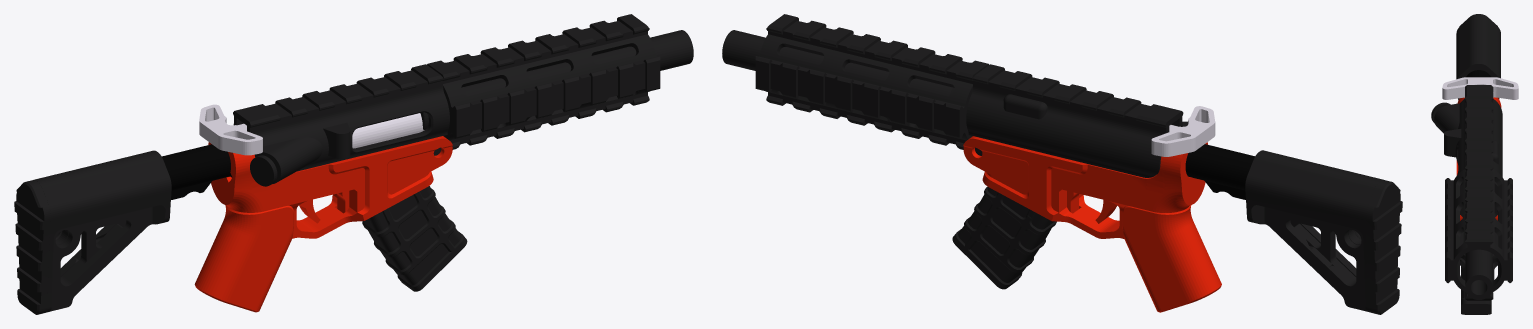
The picture shows the model from 3 angles, left to right: view 1: azimuth 30°, elevation 25°; view 2: azimuth 150°, elevation 25°; view 3: azimuth 270°, elevation 25°; orthographic projection. The views are drawn at different scales.
Visible parts, largest first — view 1: ar.012, ar.005, ar.013, ar.010, ar.001, ar.009, ar.003; view 2: ar.012, ar.005, ar.013, ar.010, ar.001, ar.009; view 3: ar.012, ar.013, ar.009, ar.010, ar.001, ar.005.
Boxes of the visible parts, box(x1,y1,x2,y2) form: ar.012: box(233, 14, 693, 186); ar.005: box(194, 136, 452, 312); ar.013: box(14, 150, 171, 314); ar.010: box(362, 186, 467, 291); ar.001: box(161, 144, 232, 199); ar.009: box(199, 104, 262, 155); ar.003: box(352, 113, 424, 148); ar.012: box(722, 14, 1187, 177); ar.005: box(963, 136, 1221, 312); ar.013: box(1245, 150, 1402, 314); ar.010: box(952, 186, 1056, 289); ar.001: box(1185, 144, 1254, 199); ar.009: box(1151, 106, 1215, 156); ar.012: box(1431, 85, 1512, 300); ar.013: box(1456, 14, 1500, 100); ar.009: box(1442, 77, 1518, 99); ar.010: box(1461, 266, 1491, 314); ar.001: box(1466, 70, 1490, 77); ar.005: box(1456, 97, 1501, 220).
Bounding box in the file's own units: 218 × 66.19 × 31.59.
